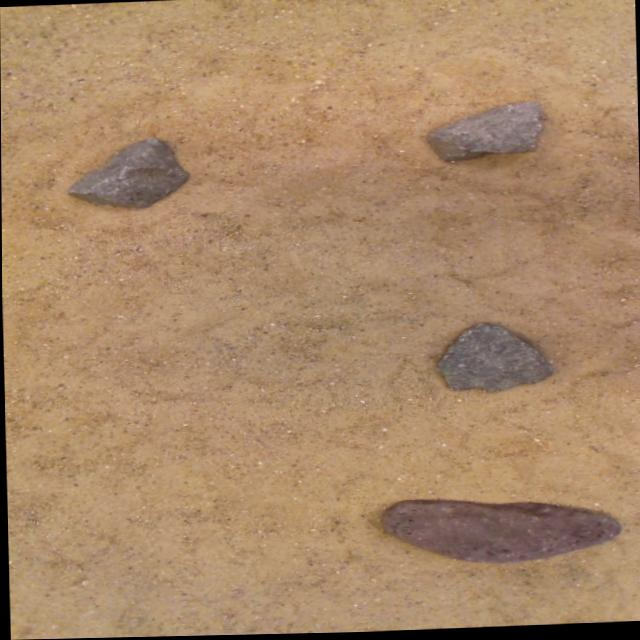rock: (382, 500, 619, 564), (66, 137, 187, 206), (436, 325, 551, 392), (426, 103, 540, 161)
